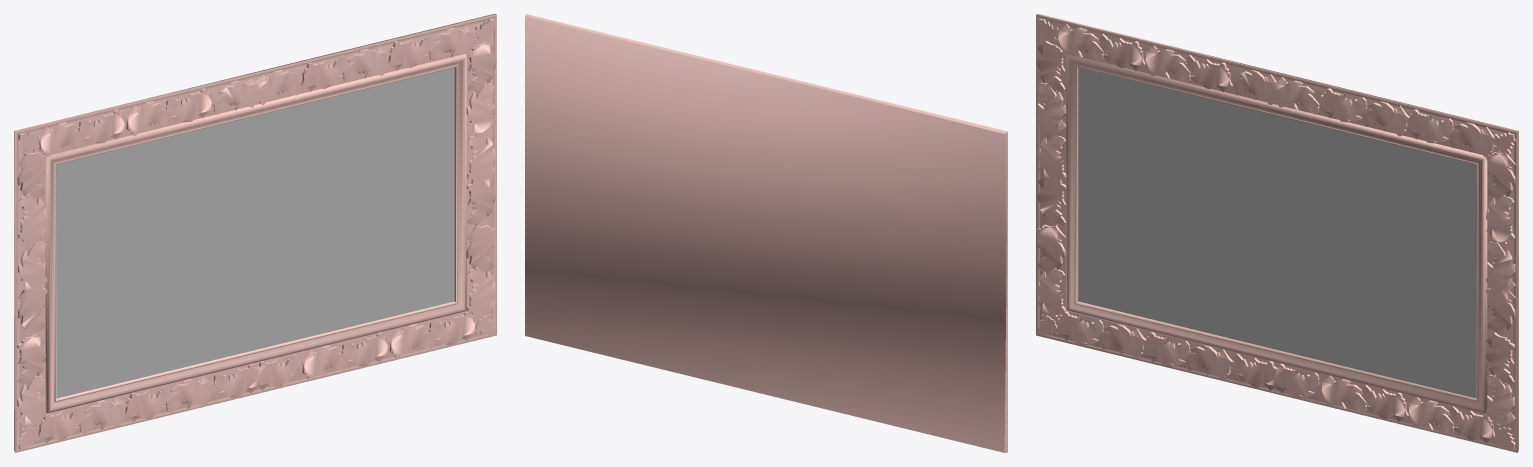
File: picture.FBX
3 views of the same model, side by side, from view 1: azimuth 30°, elevation 25°; view 2: azimuth 150°, elevation 25°; view 3: azimuth 330°, elevation 25° (orthographic).
Parts seen in each view (by area): view 1: Frame; view 2: Frame; view 3: Frame.
Part boxes in pixels (x1,y1,x2,y2): Frame: (14,14,496,452); Frame: (525,14,1007,452); Frame: (1036,14,1518,452).
Bounding box in the file's own units: 118 × 75.11 × 1.68.
